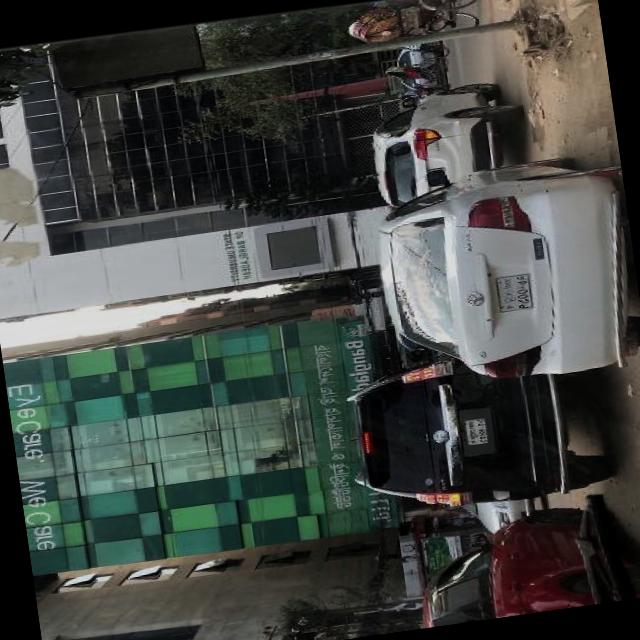car: (369, 146, 640, 395), (412, 500, 640, 627), (362, 73, 533, 215), (459, 495, 536, 539), (394, 40, 446, 102)
motorcycle: (345, 0, 486, 49), (380, 52, 448, 100)
truck: (345, 338, 612, 518)
